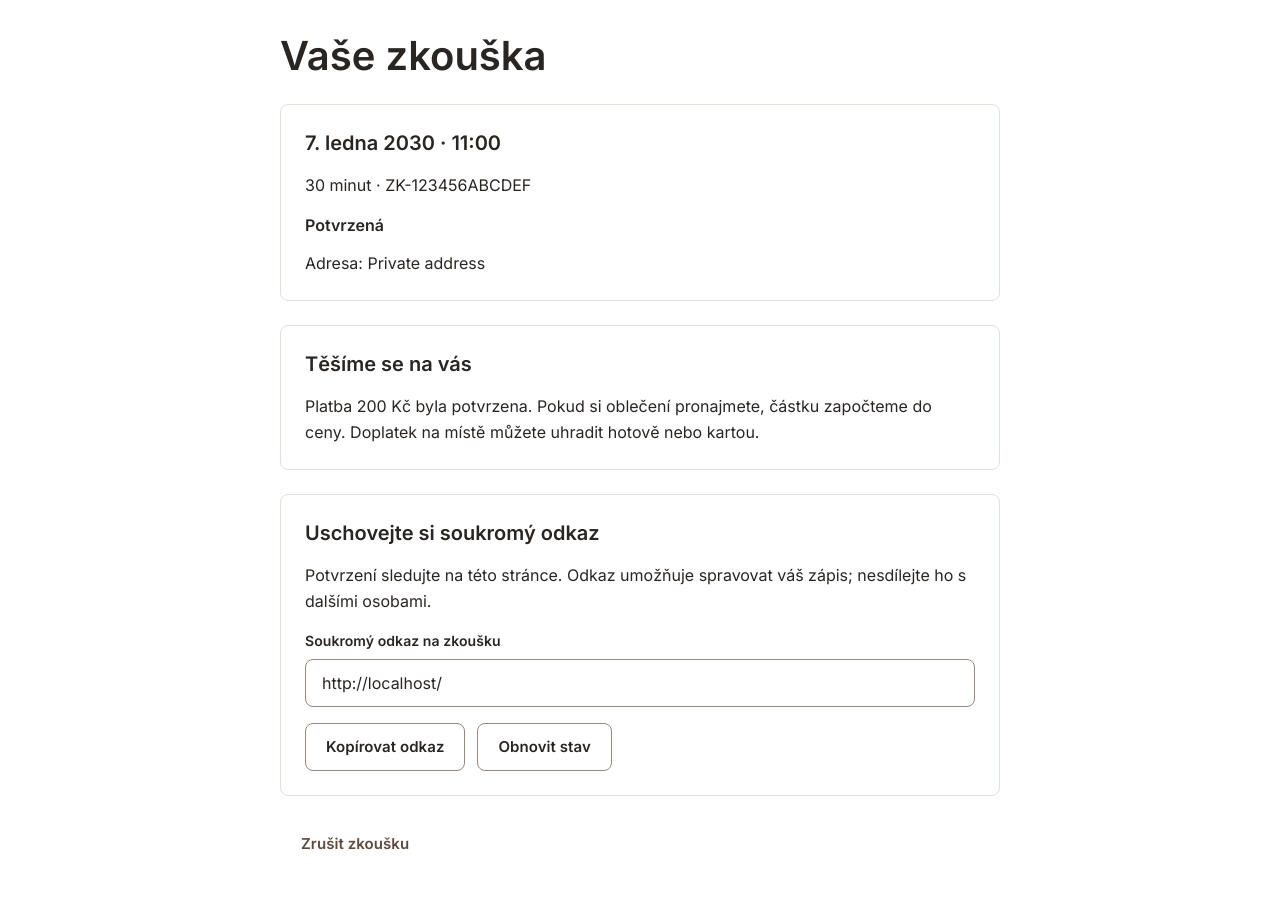
Test: private link management is only shown to guests: signed in false
Expected: the text "Adresa: Private address" is shown, [305,253,485,273]
Click the button "Zrušit zkoušku" at (355, 844), box [280,820,430,868]
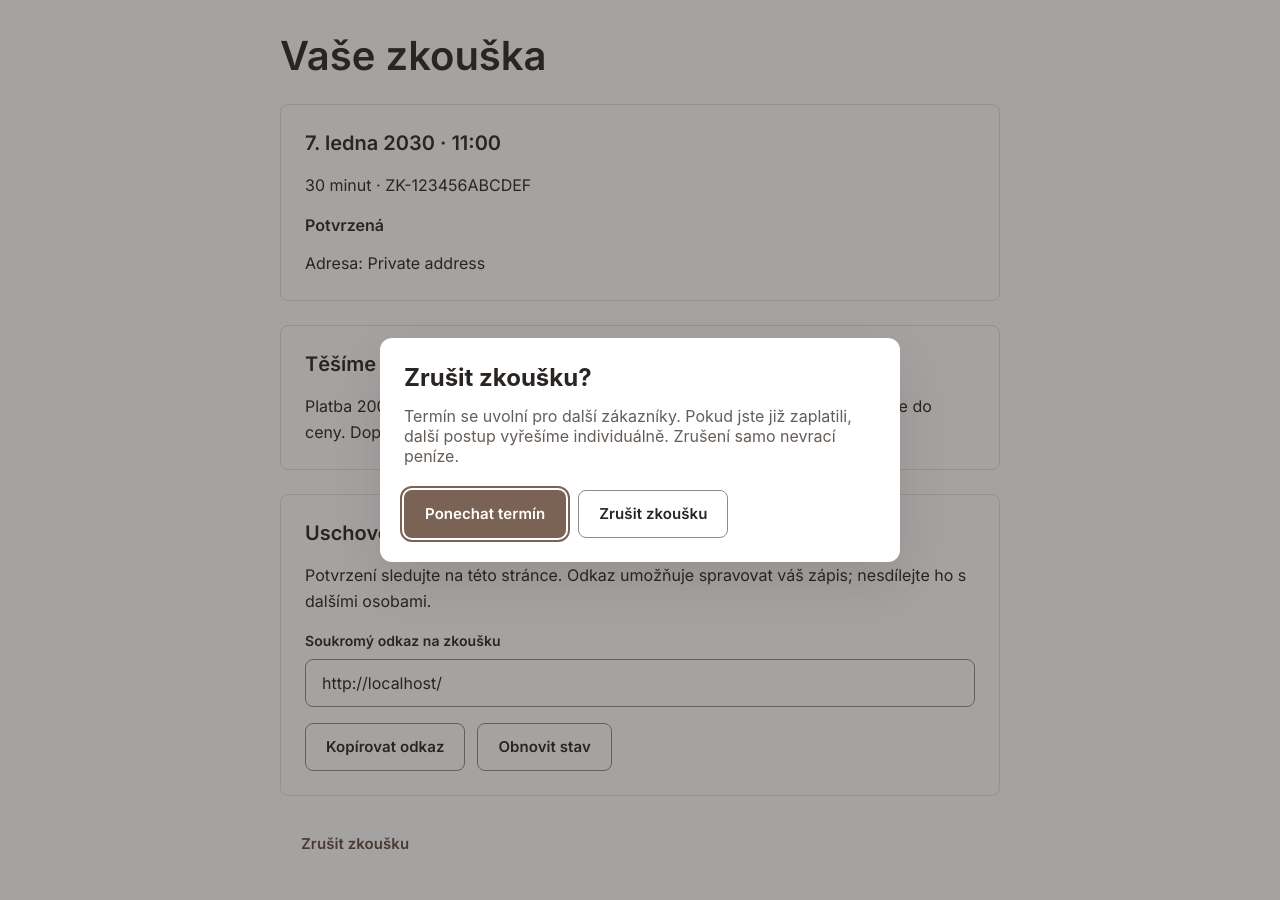
Expected: the dialog is shown, [380,338,900,562]
